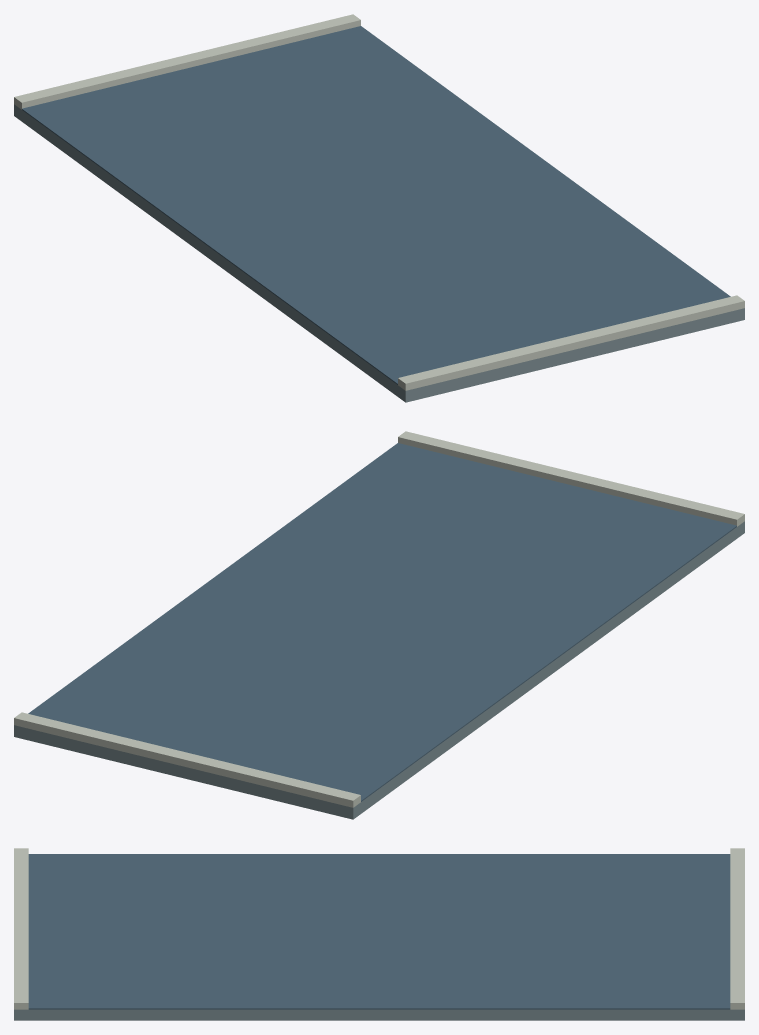
The model's file is d03_apartment_family_10_straight.glb.
The picture shows the model from 3 angles, top to bottom: view 1: azimuth 30°, elevation 25°; view 2: azimuth 150°, elevation 25°; view 3: azimuth 270°, elevation 25°; orthographic projection. The views are drawn at different scales.
Parts seen in each view (by area): view 1: D03ApartmentFamily10Straight_Mesh; view 2: D03ApartmentFamily10Straight_Mesh; view 3: D03ApartmentFamily10Straight_Mesh.
Part boxes in pixels (bbox=[...]): D03ApartmentFamily10Straight_Mesh: bbox=[14, 14, 744, 402]; D03ApartmentFamily10Straight_Mesh: bbox=[14, 431, 744, 819]; D03ApartmentFamily10Straight_Mesh: bbox=[14, 848, 744, 1020].
Size of the model in its own units: 6 by 0.32 by 12.
